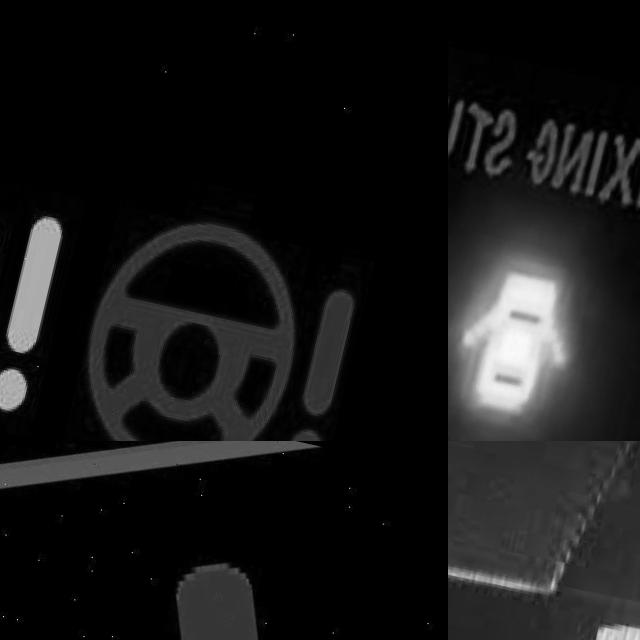Electronic Power Steering Warning: (83, 186, 375, 441), (0, 117, 82, 432)
